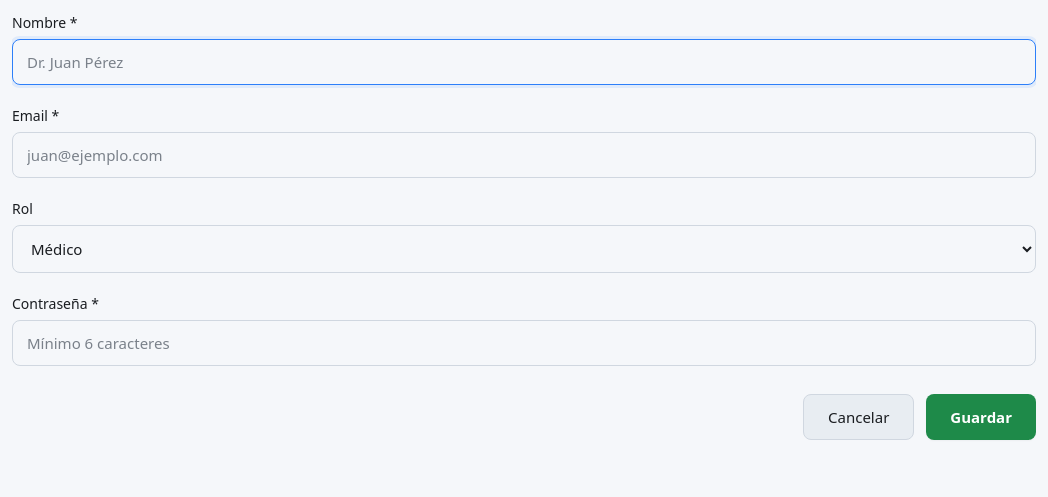
Test: MedicoForm › shows validation error when email is empty on submit
The width and height of the screenshot is (1048, 497).
Type "Dr. Test" into the field labelled "Nombre *".
click(524, 62); type("Dr. Test")  # box [12,39,1036,85]
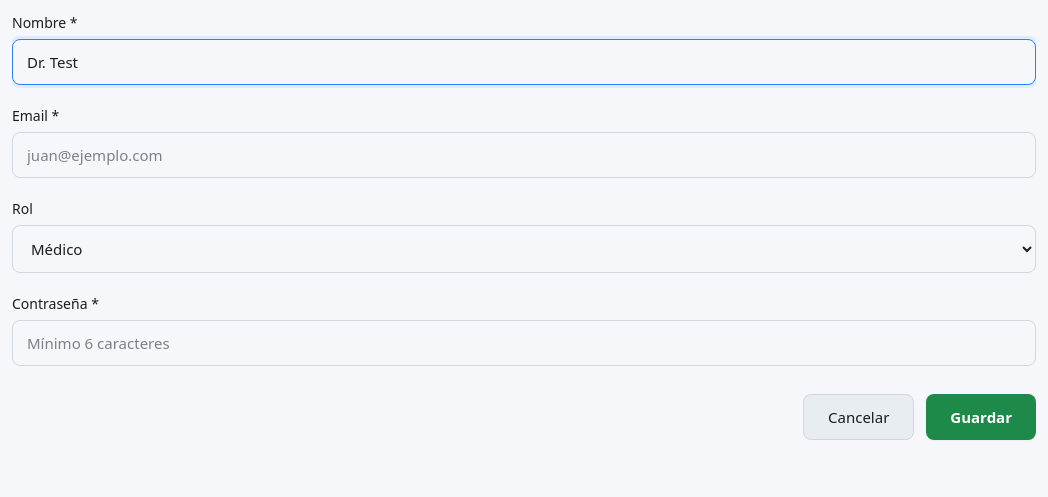
Submit the form with test id "medico-form"
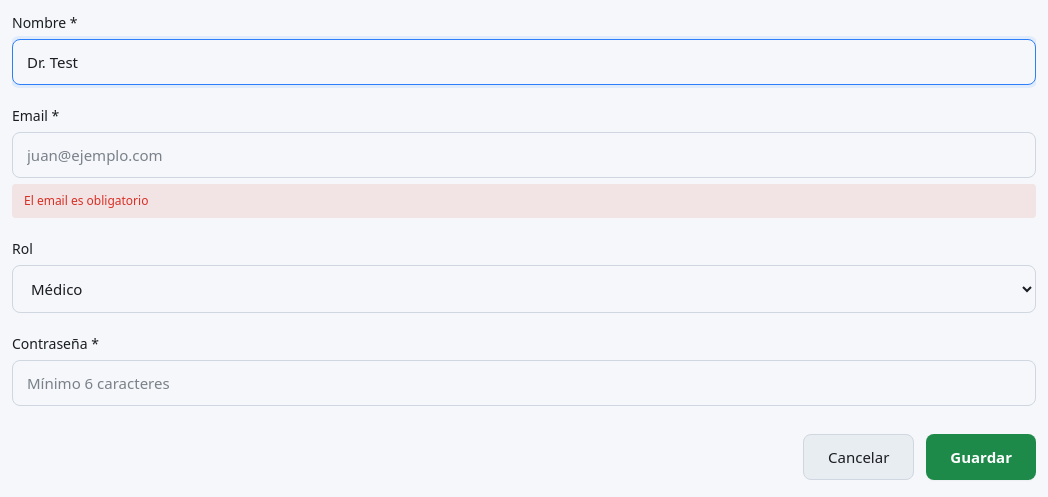
Expected: the text "El email es obligatorio" is shown, [12,184,1036,218]
